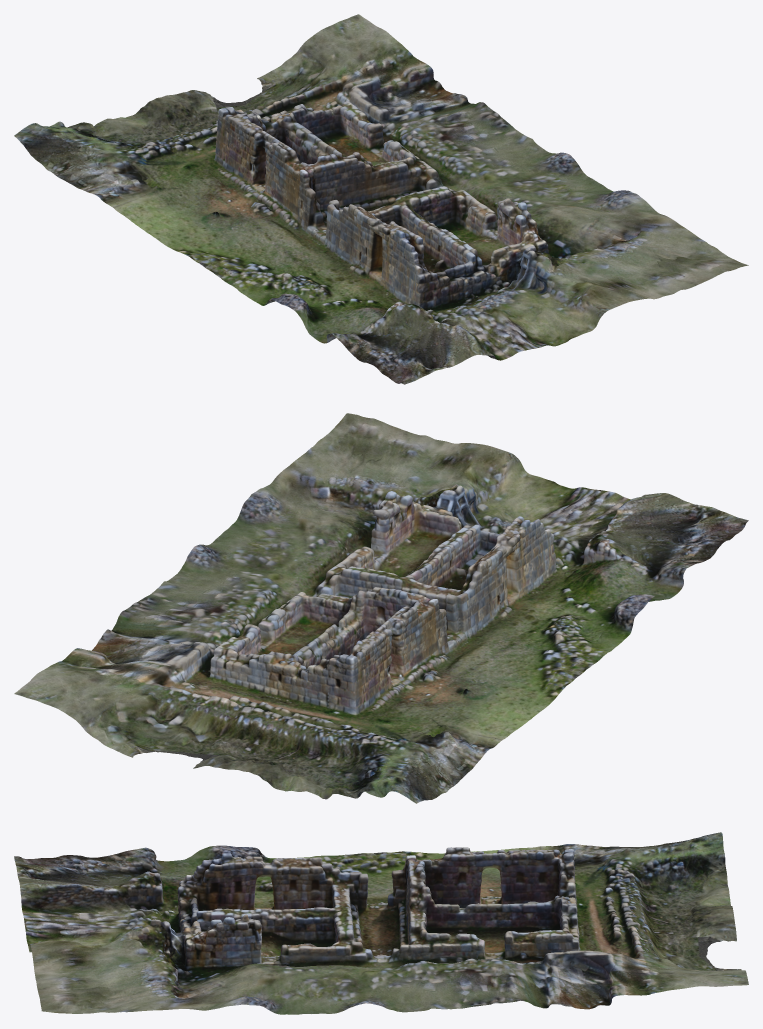
The model's file is incahuasi.glb.
3 views of the same model, one above another, from view 1: azimuth 30°, elevation 25°; view 2: azimuth 150°, elevation 25°; view 3: azimuth 270°, elevation 25° (orthographic). The views are drawn at different scales.
Parts seen in each view (by area): view 1: Model; view 2: Model; view 3: Model.
Boxes of the visible parts, <box> form: Model: <box>14,14,748,384</box>; Model: <box>14,413,748,803</box>; Model: <box>14,832,748,1014</box>.
Size of the model in its own units: 27.22 by 4.53 by 42.79.
Materials: 1 (1 with a texture image).
